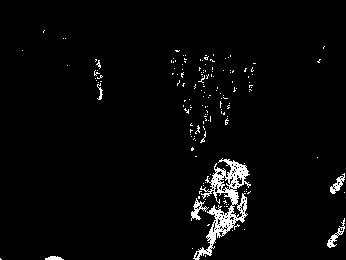person: (182, 79, 212, 153), (216, 68, 234, 126), (92, 57, 108, 101)
